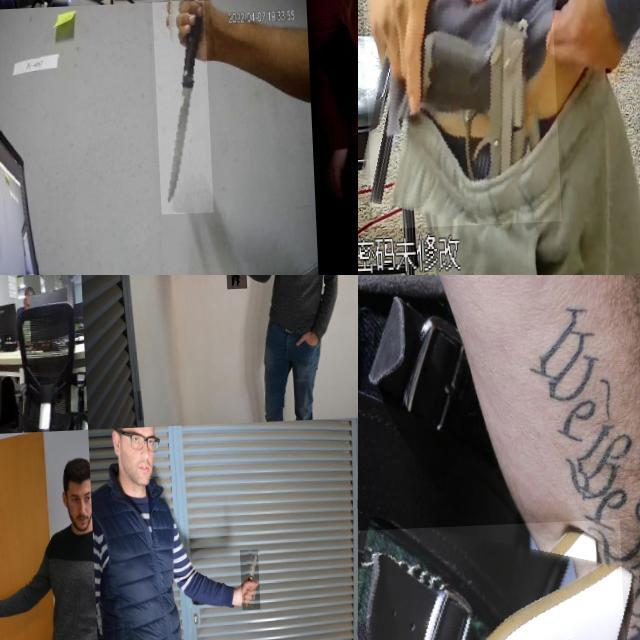-: (149, 2, 209, 216), (130, 0, 196, 77), (236, 554, 256, 615), (223, 275, 245, 305), (0, 365, 10, 427), (0, 613, 15, 630)
gun-knife-thesis - v11 Yolov5 augmented: (358, 0, 556, 231), (358, 523, 629, 640)
